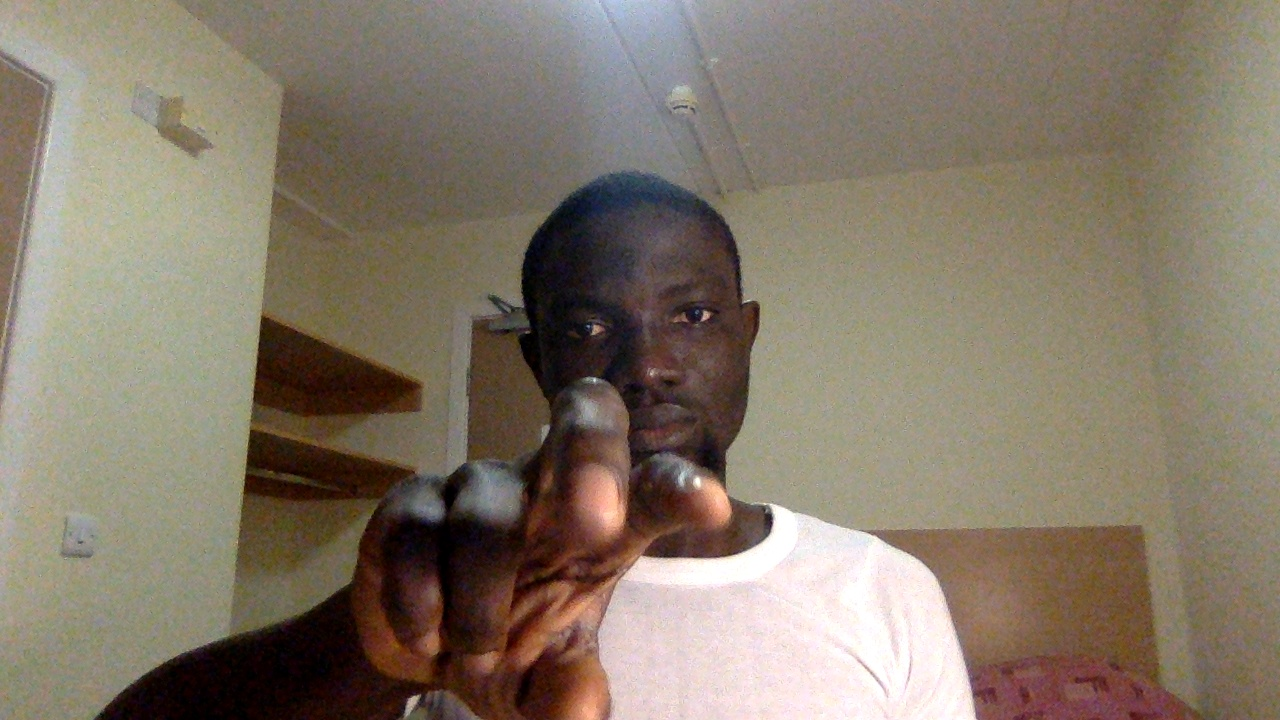No: (333, 368, 748, 720)
